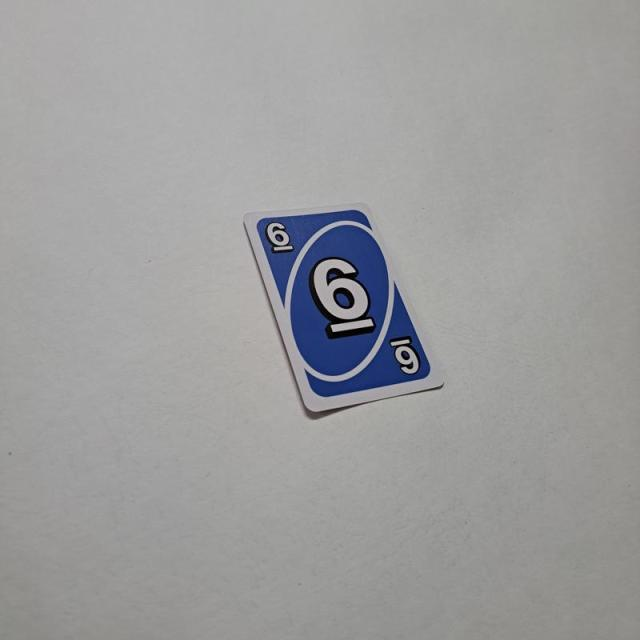Blue_Card: (254, 203, 434, 401)
Number_6: (264, 218, 295, 258)
